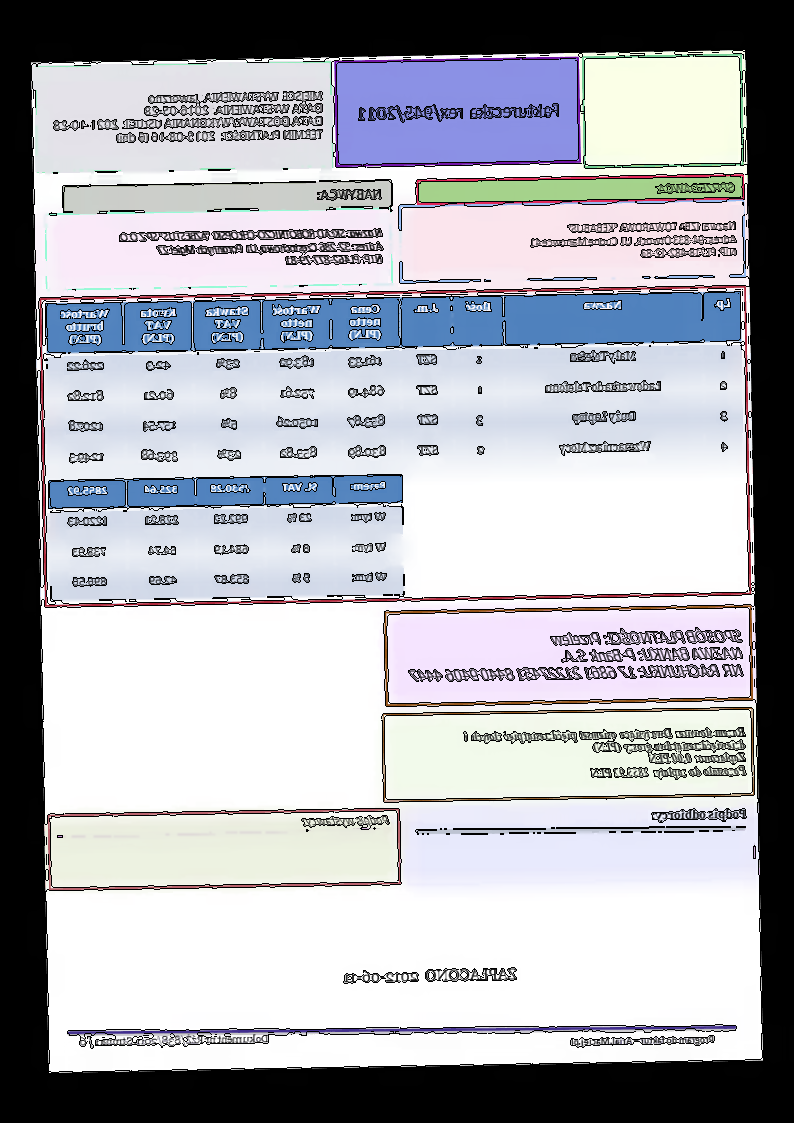Table: (45, 289, 745, 478), (47, 473, 406, 603)
TextBox: (407, 627, 745, 687), (462, 724, 749, 783), (51, 88, 326, 148), (118, 225, 386, 271), (528, 218, 740, 262), (357, 100, 564, 126), (78, 1030, 270, 1052), (342, 966, 521, 986), (569, 1033, 717, 1048), (649, 806, 749, 824), (302, 812, 392, 830), (654, 179, 738, 197), (316, 185, 384, 203)
